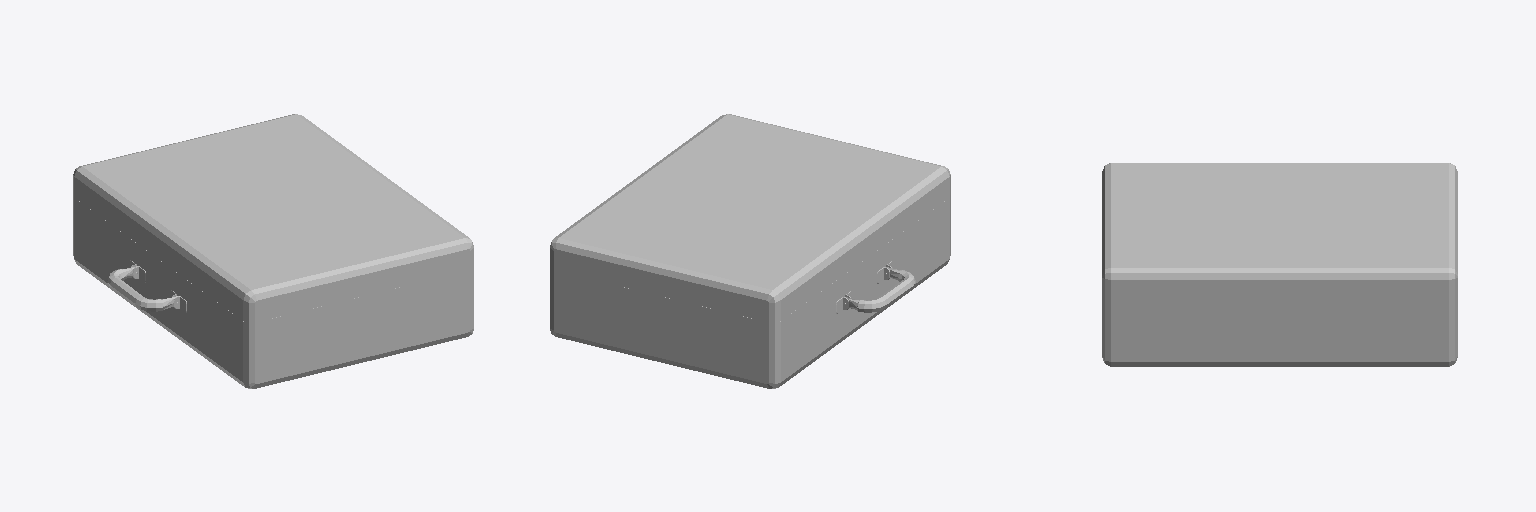
The model's file is OldSuitcase_pbr.obj.
3 renders of one model, left to right at view 1: azimuth 30°, elevation 25°; view 2: azimuth 150°, elevation 25°; view 3: azimuth 270°, elevation 25°, orthographic.
Visible parts, largest first — view 1: up_part, base, Handle; view 2: up_part, base, Handle; view 3: up_part, base.
Part boxes in pixels (left/top/right/bottom): up_part: left=73, top=114, right=473, bottom=322; base: left=73, top=195, right=473, bottom=388; Handle: left=107, top=266, right=177, bottom=311; up_part: left=550, top=114, right=950, bottom=322; base: left=550, top=195, right=950, bottom=388; Handle: left=846, top=267, right=915, bottom=312; up_part: left=1102, top=163, right=1457, bottom=300; base: left=1102, top=297, right=1457, bottom=366.
Size of the model in its own units: 53.28 by 18.96 by 61.67.